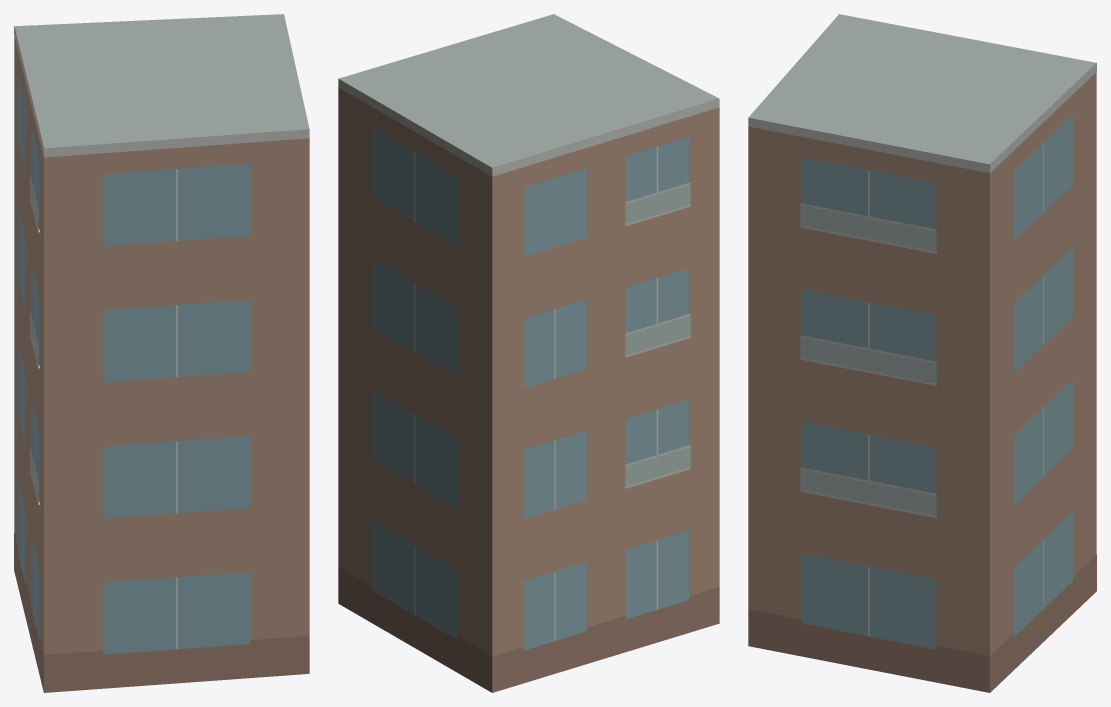
Rendered from survey-upis-32725310.glb.
3 views of the same model, side by side, from view 1: azimuth 30°, elevation 25°; view 2: azimuth 150°, elevation 25°; view 3: azimuth 270°, elevation 25° (orthographic). The views are drawn at different scales.
Parts seen in each view (by area): view 1: survey-upis-32725310.tmp; view 2: survey-upis-32725310.tmp; view 3: survey-upis-32725310.tmp.
Boxes of the visible parts, left/top/right/bottom form: survey-upis-32725310.tmp: left=14, top=14, right=309, bottom=692; survey-upis-32725310.tmp: left=338, top=14, right=719, bottom=692; survey-upis-32725310.tmp: left=748, top=14, right=1096, bottom=692.
Size of the model in its own units: 8.92 by 14.6 by 8.74.
